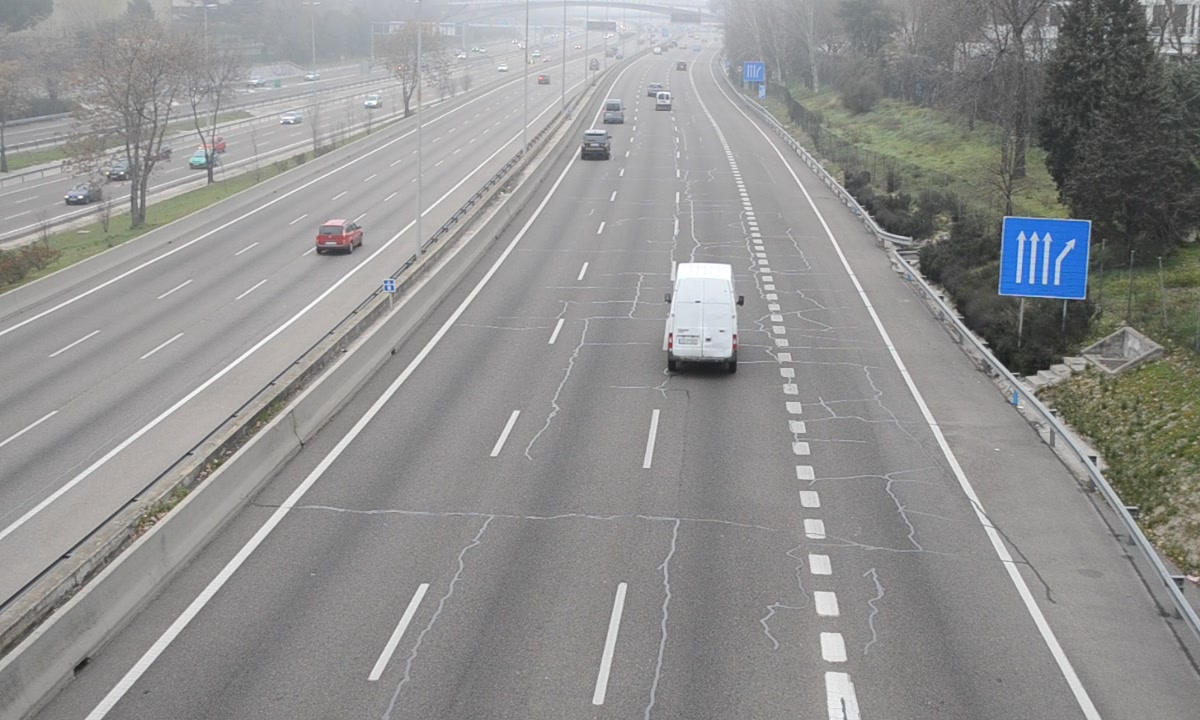car: (582, 129, 612, 158)
van: (668, 263, 740, 373), (601, 98, 625, 126)
